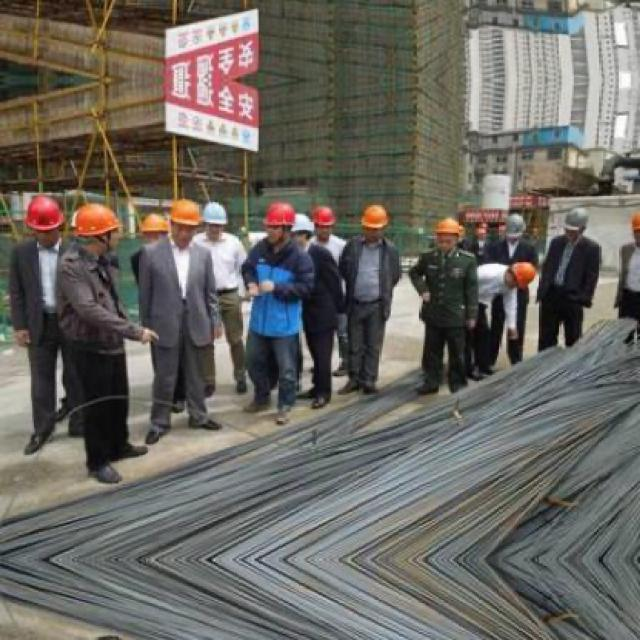helmet: (76, 202, 121, 254), (24, 194, 64, 246), (138, 207, 170, 259), (263, 204, 300, 248), (168, 198, 200, 242), (360, 201, 391, 242), (500, 260, 538, 292), (434, 214, 463, 253), (562, 202, 590, 242), (286, 213, 312, 254), (203, 199, 229, 239), (311, 203, 337, 240), (505, 213, 526, 242)
